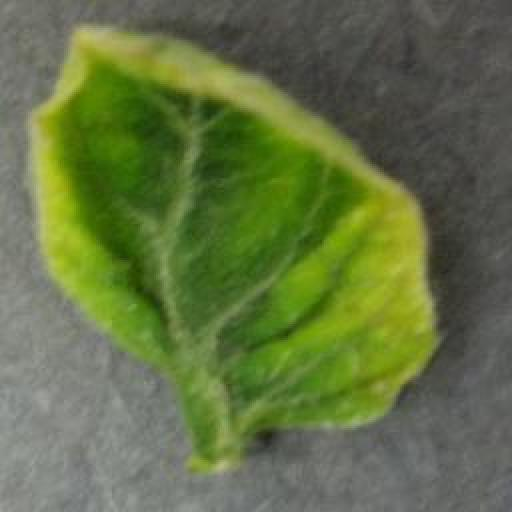Yellow Leaf Curl Virus: (31, 20, 449, 433)
